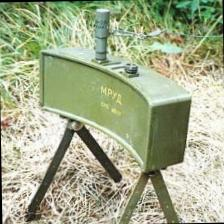MOH-50: (34, 12, 191, 178)
